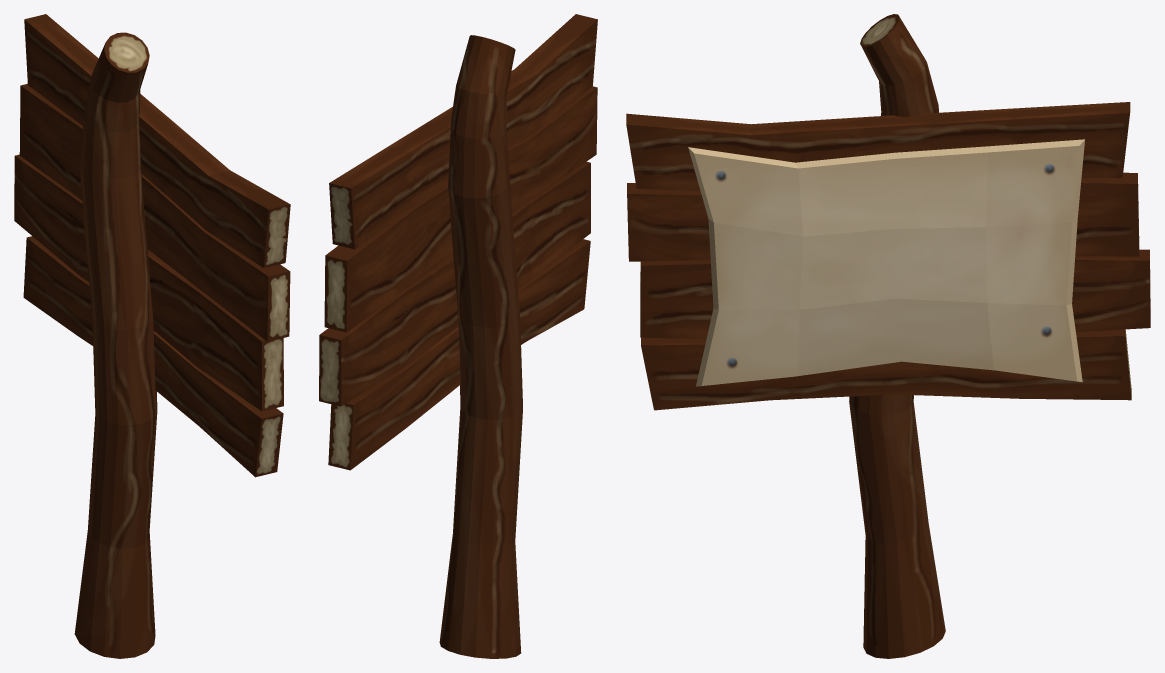
The model's file is ZoranSign.fbx.
3 views of the same model, side by side, from view 1: azimuth 30°, elevation 25°; view 2: azimuth 150°, elevation 25°; view 3: azimuth 270°, elevation 25° (orthographic). The views are drawn at different scales.
Parts seen in each view (by area): view 1: SignMesh; view 2: SignMesh; view 3: SignMesh.
Part boxes in pixels (x1,y1,x2,y2): SignMesh: [14, 14, 290, 658]; SignMesh: [319, 14, 597, 658]; SignMesh: [626, 14, 1150, 658].
Bounding box in the file's own units: 14.23 × 96.09 × 72.5.
Materials: 1 (1 with a texture image).
